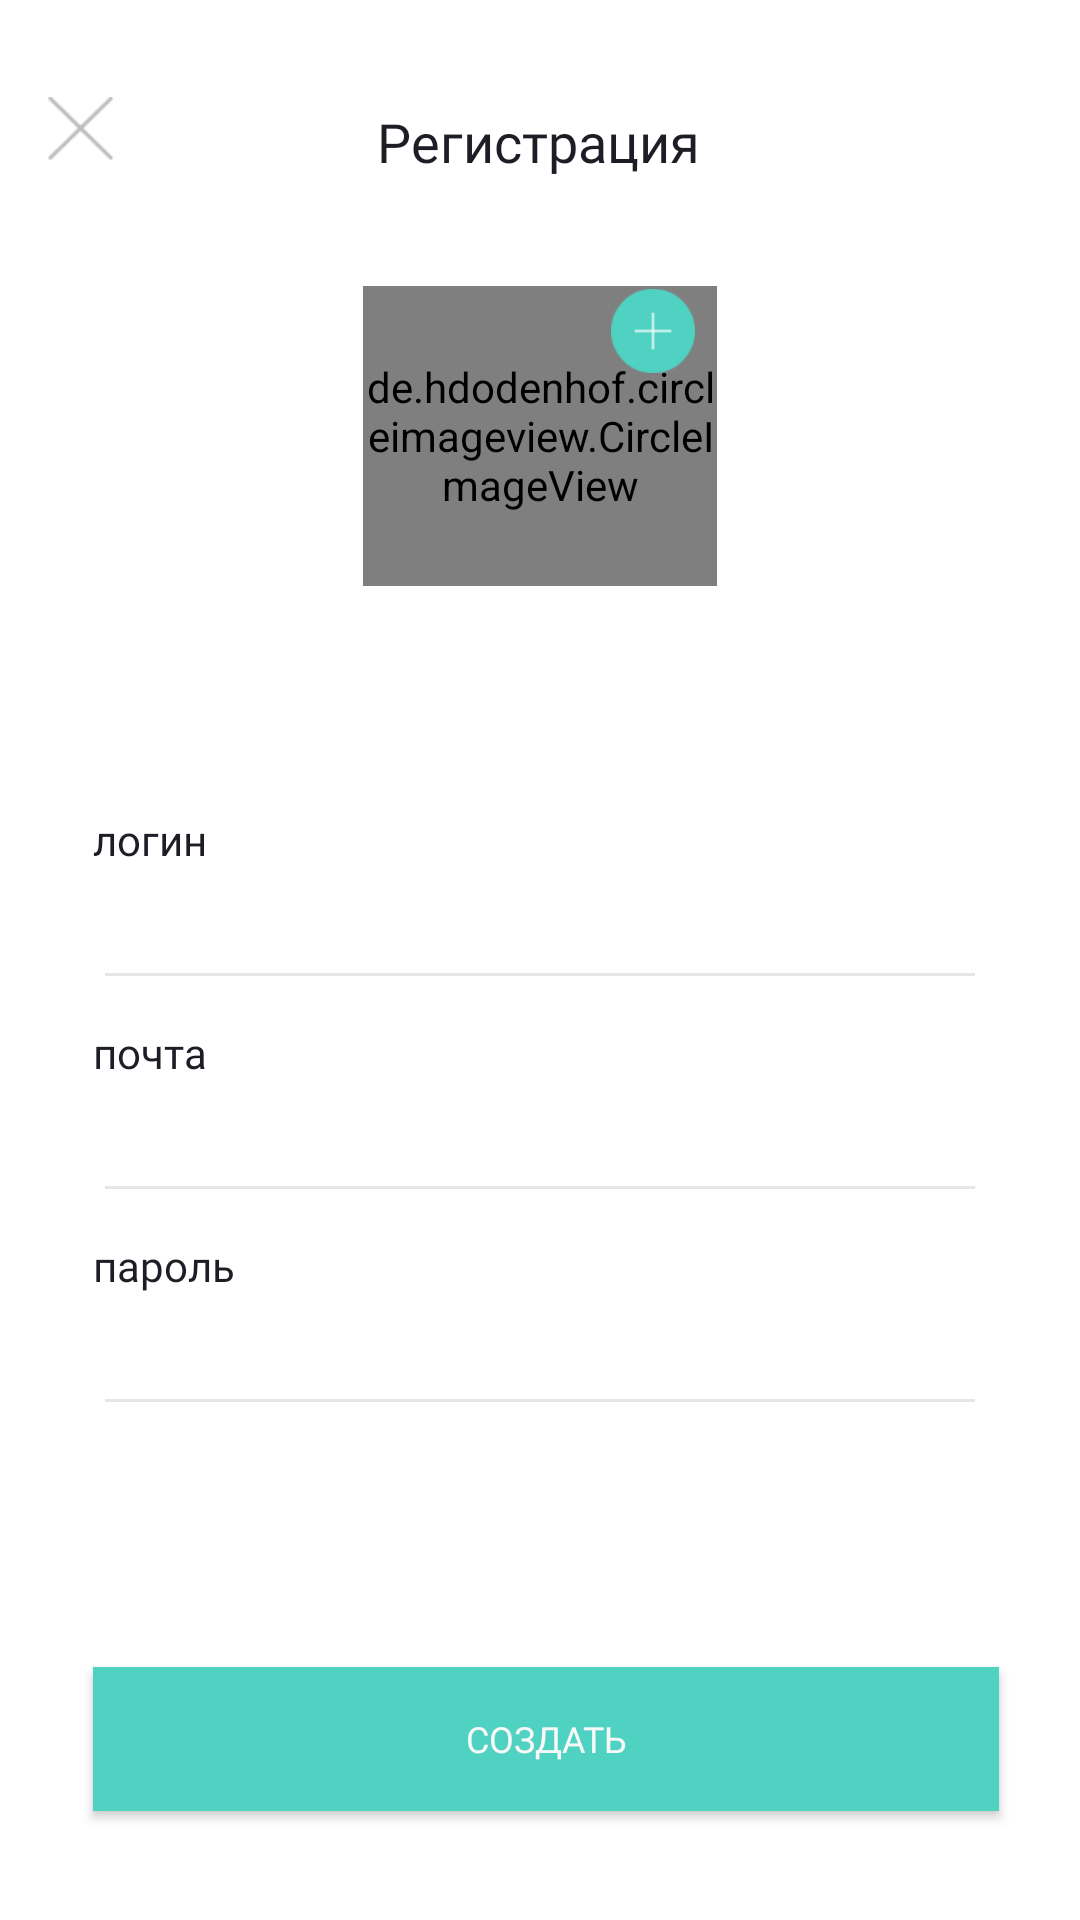

Icons on this 1080w x 1920h Android screen, each with its box as (x1, y1, x2, y2):
close: (48, 97, 113, 160)
